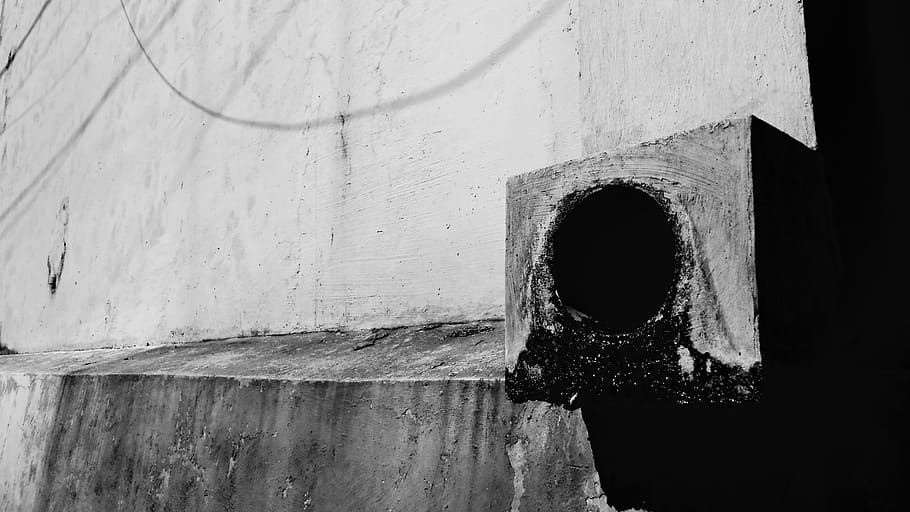Culvert: (550, 189, 675, 334)
Empty Outlet: (550, 189, 675, 334)
